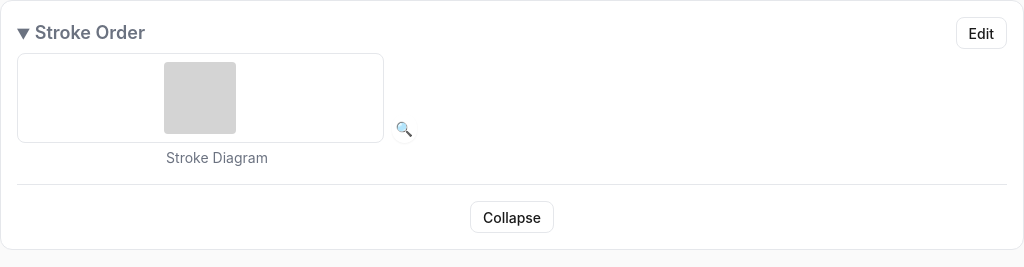
Test case: KanjiDetailSectionStrokeOrder › collapsed state › hides edit button when section is collapsed
Expected: the button with test id "stroke-order-edit-button" is shown, [956,17,1007,49]
Click the button "▶ Stroke Order" at (88, 32), box [17,22,940,44]
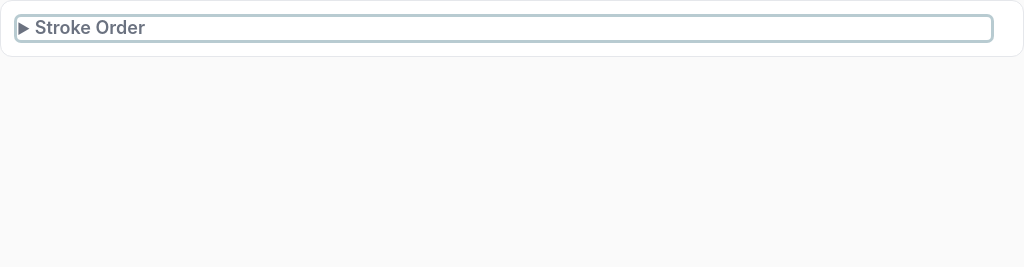
Expected: the button with test id "stroke-order-edit-button" is gone
